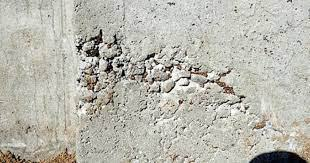Spalling: (76, 27, 249, 119)
